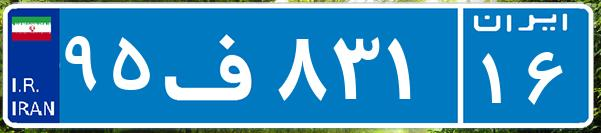1: (385, 28, 445, 110), (475, 38, 525, 113)
3: (330, 28, 385, 110)
5: (110, 28, 158, 105)
6: (525, 38, 570, 115)
8: (273, 28, 330, 110)
9: (57, 26, 110, 107)
ف: (158, 15, 273, 115)
